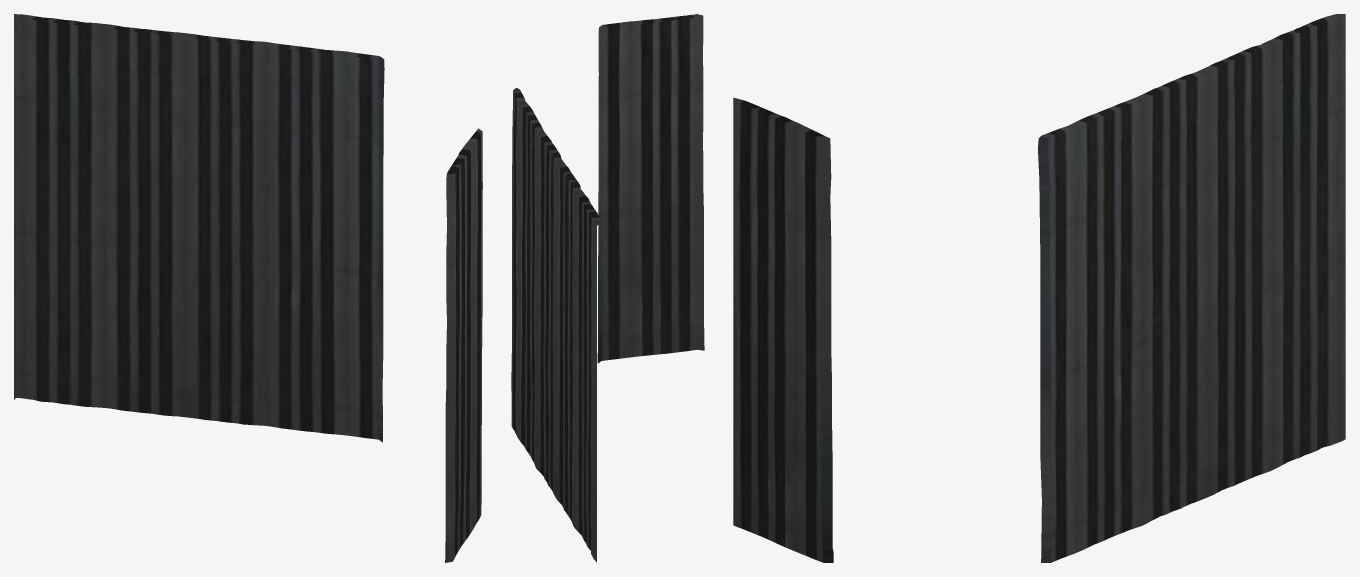
The model's file is z20-167774-405238-h1-yup-uvflip-v3-world.glb.
3 views of the same model, side by side, from view 1: azimuth 30°, elevation 25°; view 2: azimuth 150°, elevation 25°; view 3: azimuth 270°, elevation 25° (orthographic). The views are drawn at different scales.
Size of the model in its own units: 14.6 by 23.32 by 30.32.
1 material, 1 textured.
